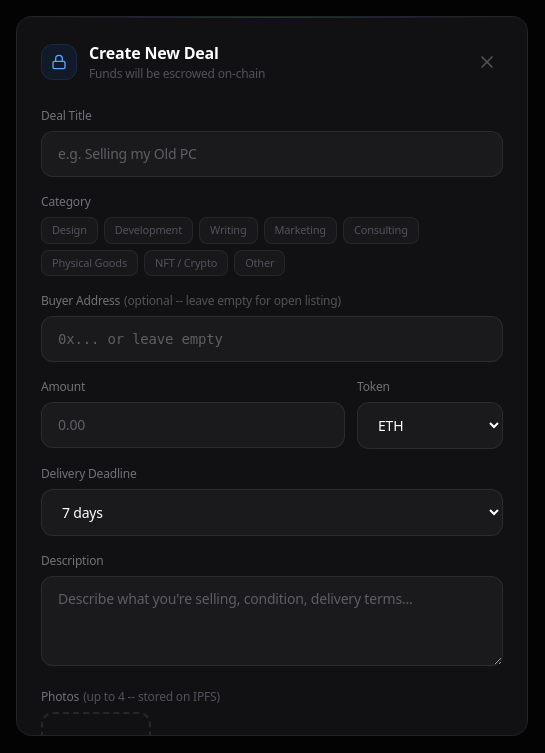
Scenario: CreateDealModal › updates fee display when amount changes
Type "10" into the number field with placeholder "0.00" at (193, 425), box [41,402,345,448]
(page scrolled)
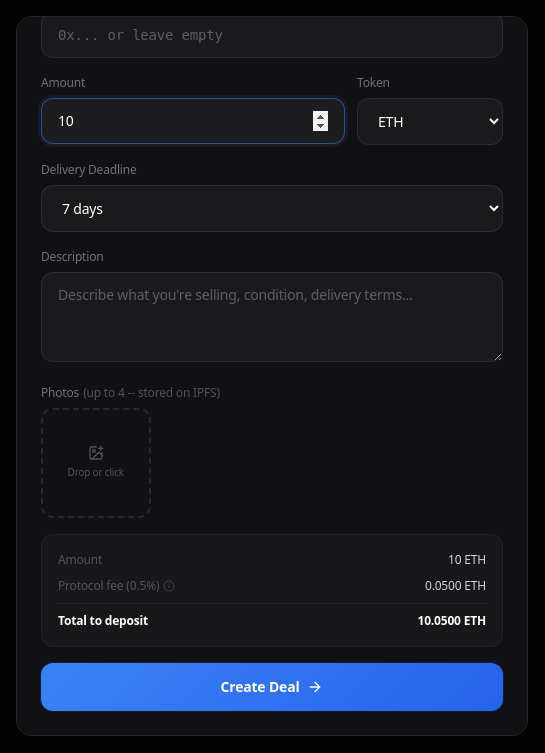
Result: the text "10.0500 ETH" is shown at [418,612,486,630]
